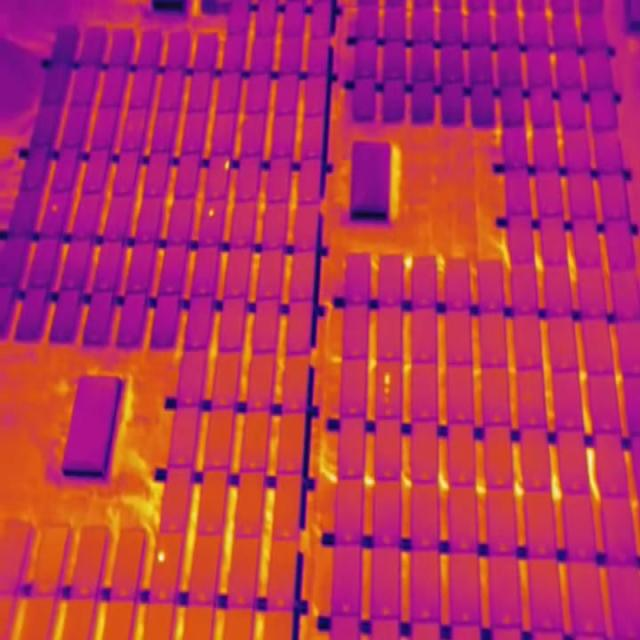Orange-Spots: (383, 372, 392, 401), (157, 550, 166, 564), (224, 160, 230, 172), (208, 208, 215, 218), (52, 204, 58, 212)
